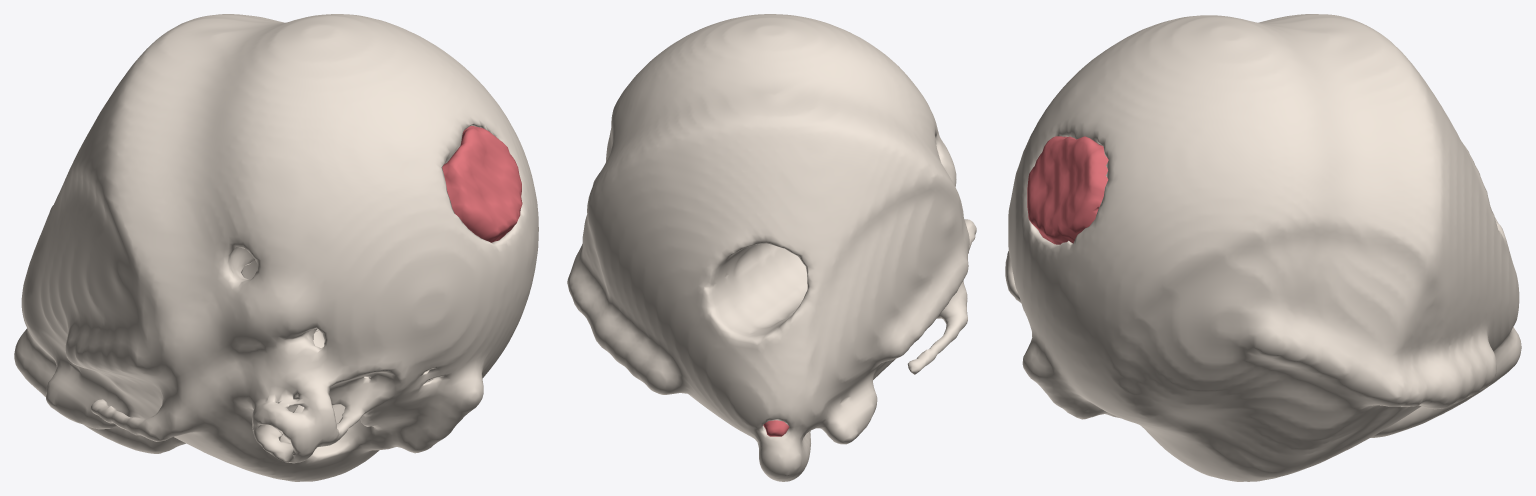
Rendered from case_06.glb.
3 renders of one model, left to right at view 1: azimuth 30°, elevation 25°; view 2: azimuth 150°, elevation 25°; view 3: azimuth 270°, elevation 25°, orthographic. The views are drawn at different scales.
Parts seen in each view (by area): view 1: heart, pool; view 2: heart; view 3: heart, pool.
Part boxes in pixels (x1,y1,x2,y2): heart: (14,14,538,481); pool: (442,126,522,242); heart: (567,14,976,481); heart: (1005,14,1521,481); pool: (1027,136,1108,244).
Bounding box in the file's own units: 126 × 133 × 138.
